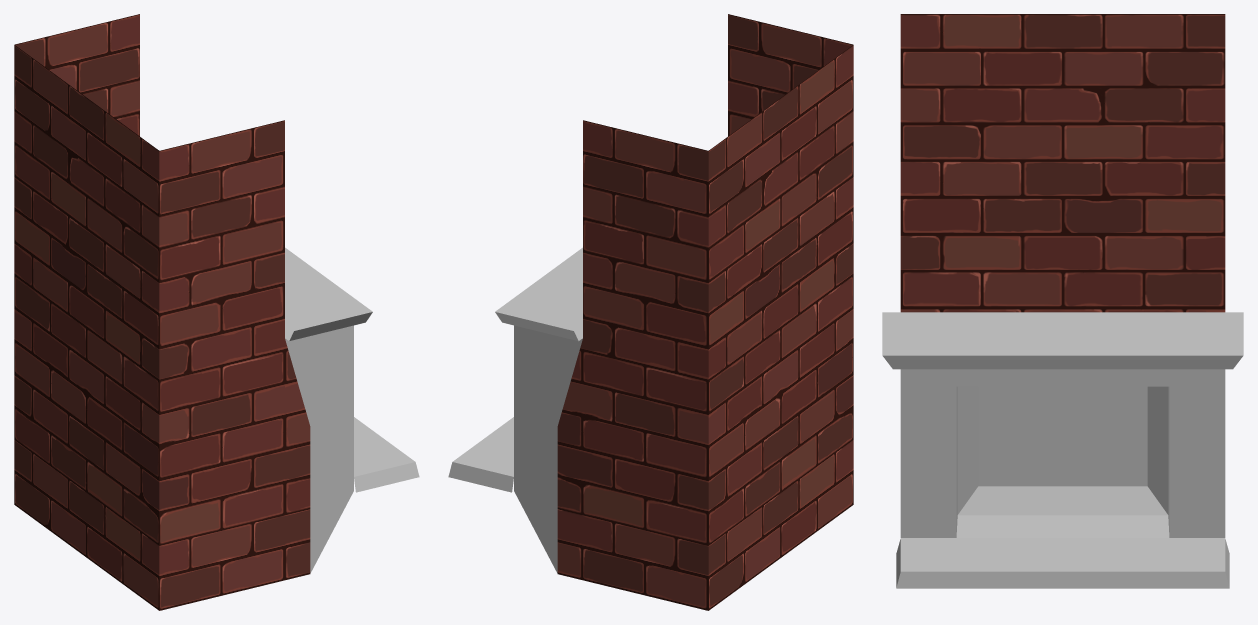
The model's file is chimney_bottom.fbx.
3 views of the same model, side by side, from view 1: azimuth 30°, elevation 25°; view 2: azimuth 150°, elevation 25°; view 3: azimuth 270°, elevation 25° (orthographic). The views are drawn at different scales.
Visible parts, largest first — view 1: chimney_bottom; view 2: chimney_bottom; view 3: chimney_bottom.
Part boxes in pixels (x1,y1,x2,y2): chimney_bottom: [14, 14, 419, 610]; chimney_bottom: [448, 14, 853, 610]; chimney_bottom: [882, 14, 1243, 588].
Bounding box in the file's own units: 205 × 350 × 223.
